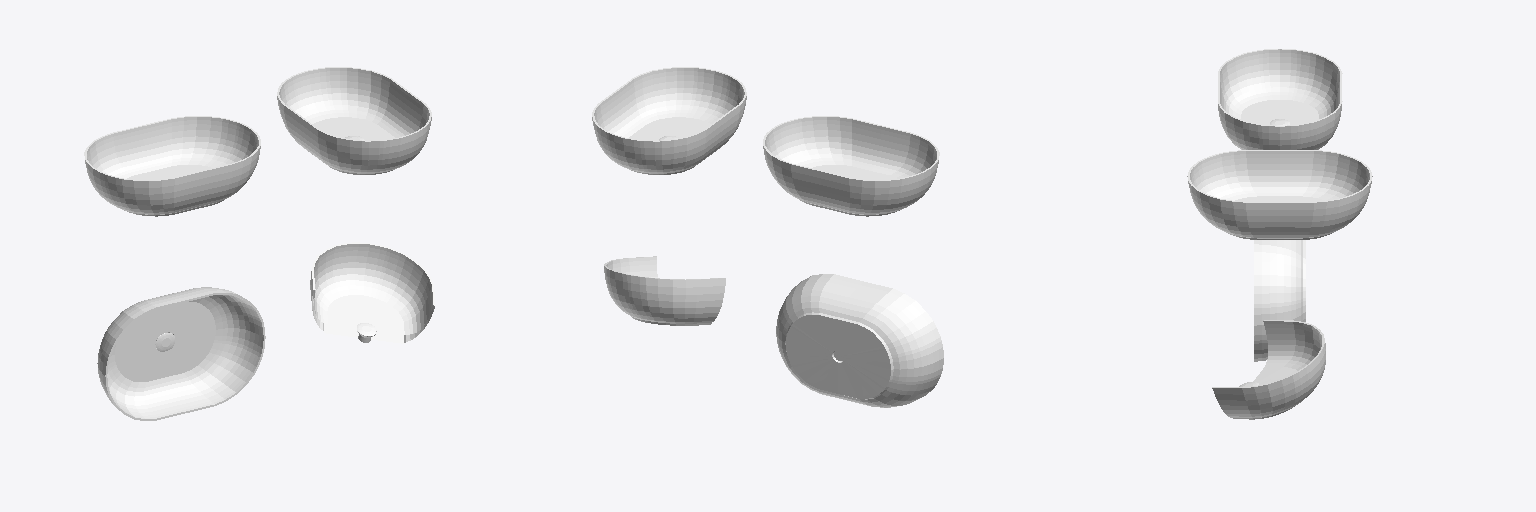
Rendered from 878316_LAVABO.obj.
3 renders of one model, left to right at view 1: azimuth 30°, elevation 25°; view 2: azimuth 150°, elevation 25°; view 3: azimuth 270°, elevation 25°, orthographic.
Parts seen in each view (by area): view 1: Box003, Box001, Box002, Box004; view 2: Box003, Box001, Box002, Box004; view 3: Box002, Box001, Box004, Box003.
Part boxes in pixels (bbox=[...]): Box003: bbox=[97, 287, 265, 420]; Box001: bbox=[84, 116, 260, 216]; Box002: bbox=[277, 67, 431, 174]; Box004: bbox=[310, 242, 435, 343]; Box003: bbox=[776, 274, 943, 407]; Box001: bbox=[763, 116, 939, 216]; Box002: bbox=[592, 67, 746, 174]; Box004: bbox=[604, 256, 725, 325]; Box002: bbox=[1187, 150, 1372, 239]; Box001: bbox=[1218, 49, 1342, 149]; Box004: bbox=[1212, 320, 1325, 419]; Box003: bbox=[1254, 240, 1305, 361].
Size of the model in its own units: 26.1 by 19.51 by 12.8.